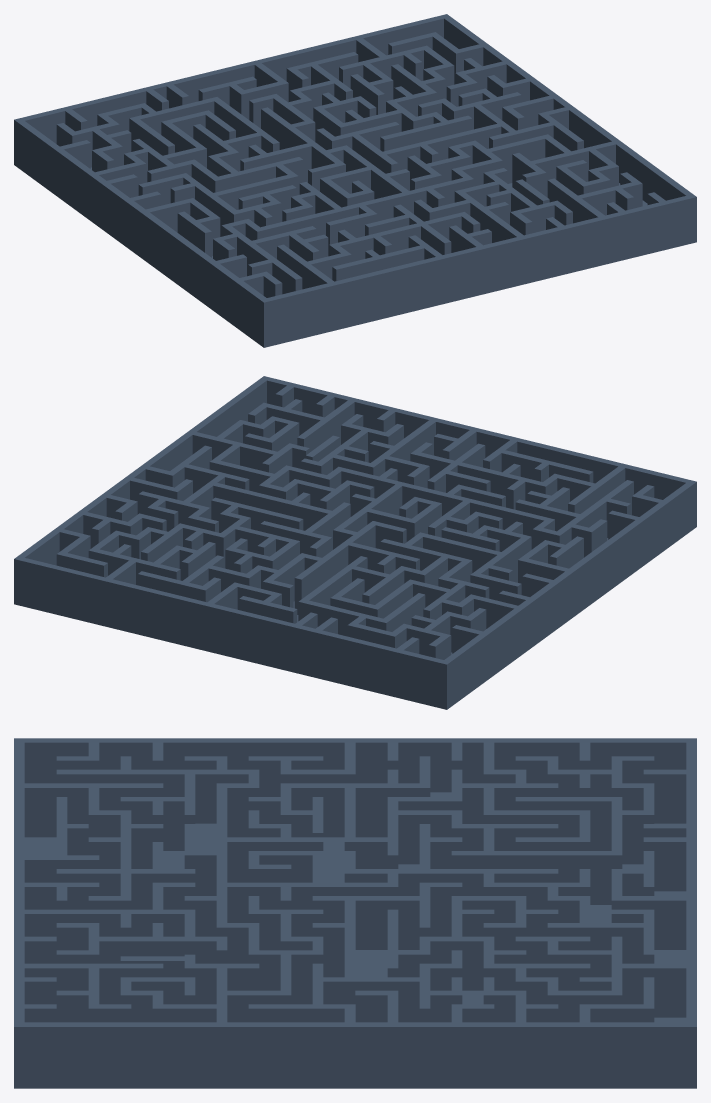
3 renders of one model, top to bottom at view 1: azimuth 30°, elevation 25°; view 2: azimuth 150°, elevation 25°; view 3: azimuth 270°, elevation 25°, orthographic. The views are drawn at different scales.
Visible parts, largest first — view 1: Cube; view 2: Cube; view 3: Cube.
Boxes of the visible parts, bbox=[...] form: Cube: bbox=[14, 14, 696, 347]; Cube: bbox=[14, 376, 696, 709]; Cube: bbox=[14, 738, 696, 1088].
Bounding box in the file's own units: 100 × 10 × 100.
